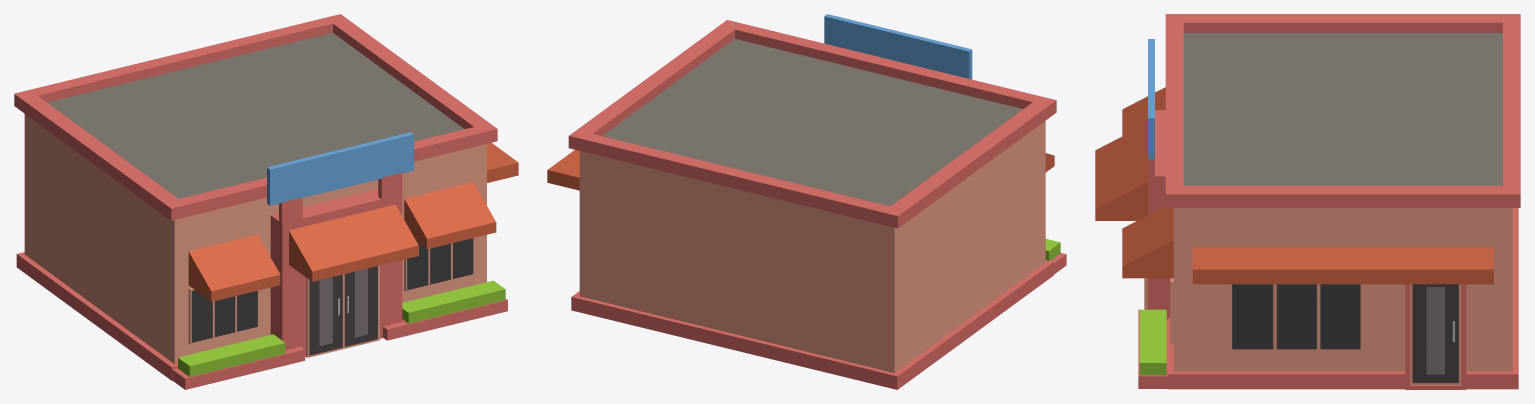
The model's file is Building_Salmon.fbx.
3 views of the same model, side by side, from view 1: azimuth 30°, elevation 25°; view 2: azimuth 150°, elevation 25°; view 3: azimuth 270°, elevation 25° (orthographic). The views are drawn at different scales.
Parts seen in each view (by area): view 1: Building_Salmon; view 2: Building_Salmon; view 3: Building_Salmon.
Boxes of the visible parts, <box> form: Building_Salmon: <box>14,14,518,389</box>; Building_Salmon: <box>547,14,1066,389</box>; Building_Salmon: <box>1095,14,1520,389</box>.
Size of the model in its own units: 44.91 by 23.39 by 40.7.
1 material, 1 textured.
